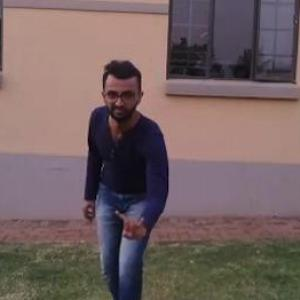takeoff-hand: (110, 205, 152, 246)
